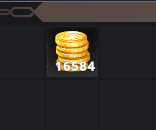gold: (47, 26, 98, 76)
